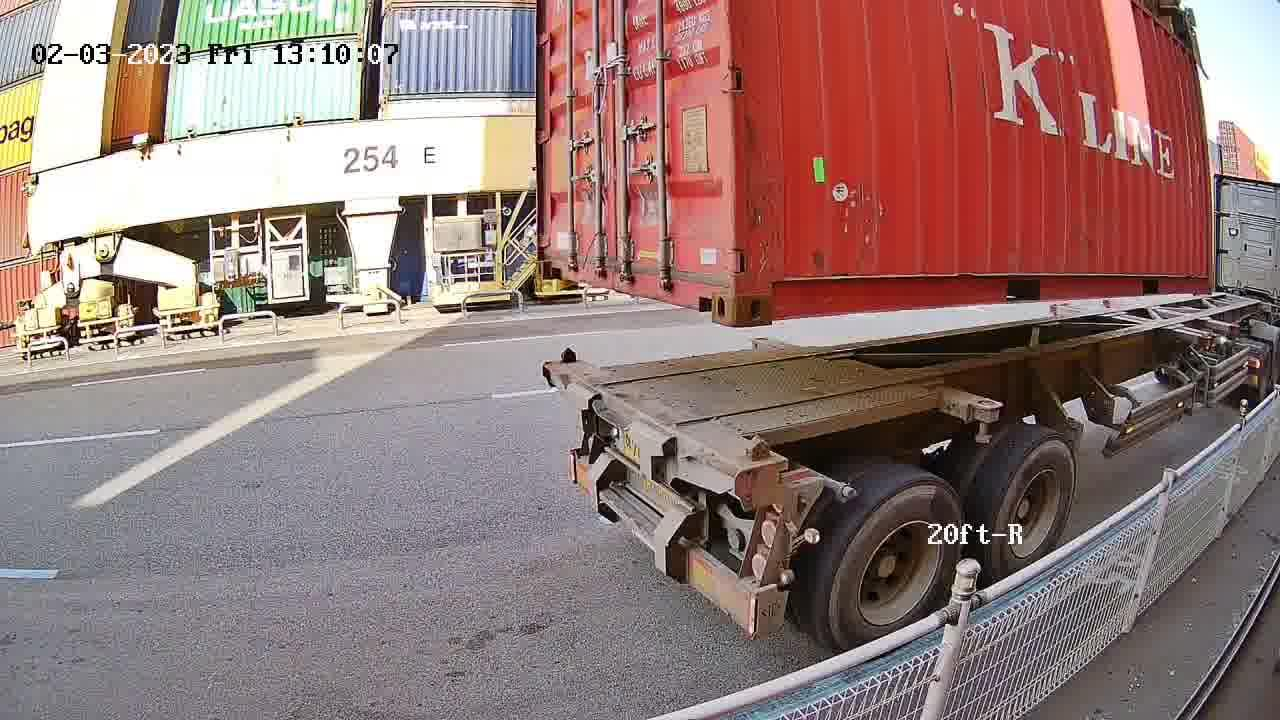Chassis: (541, 358, 785, 501)
Cone: (743, 435, 777, 509), (556, 345, 579, 367)
Hole_L: (734, 251, 814, 327), (536, 237, 569, 280)
Hole_R: (682, 248, 734, 327)
Tire: (823, 475, 970, 662), (988, 432, 1078, 588)
